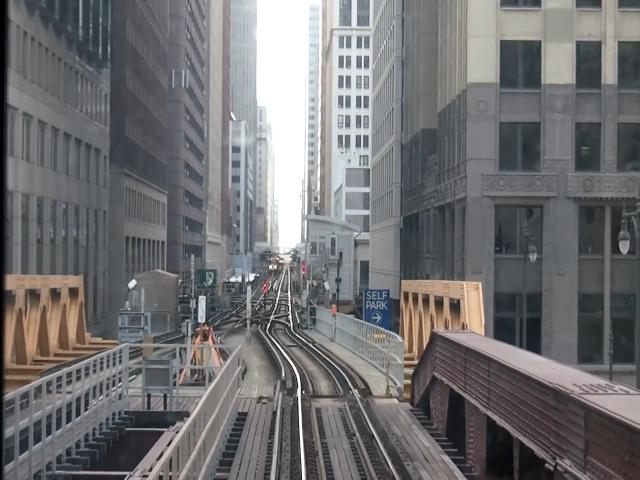signal light: (264, 282, 269, 311), (303, 265, 307, 284)
